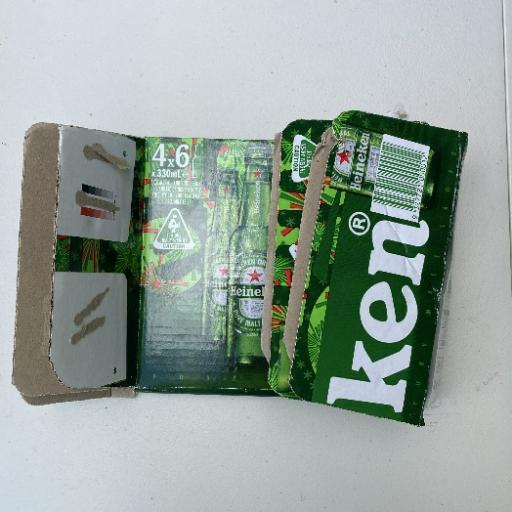Cardboard: (12, 109, 470, 428), (135, 135, 277, 396)
